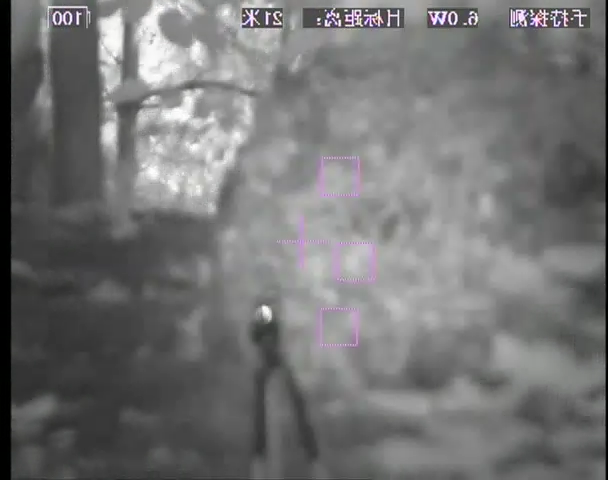my: (251, 304, 273, 325)
